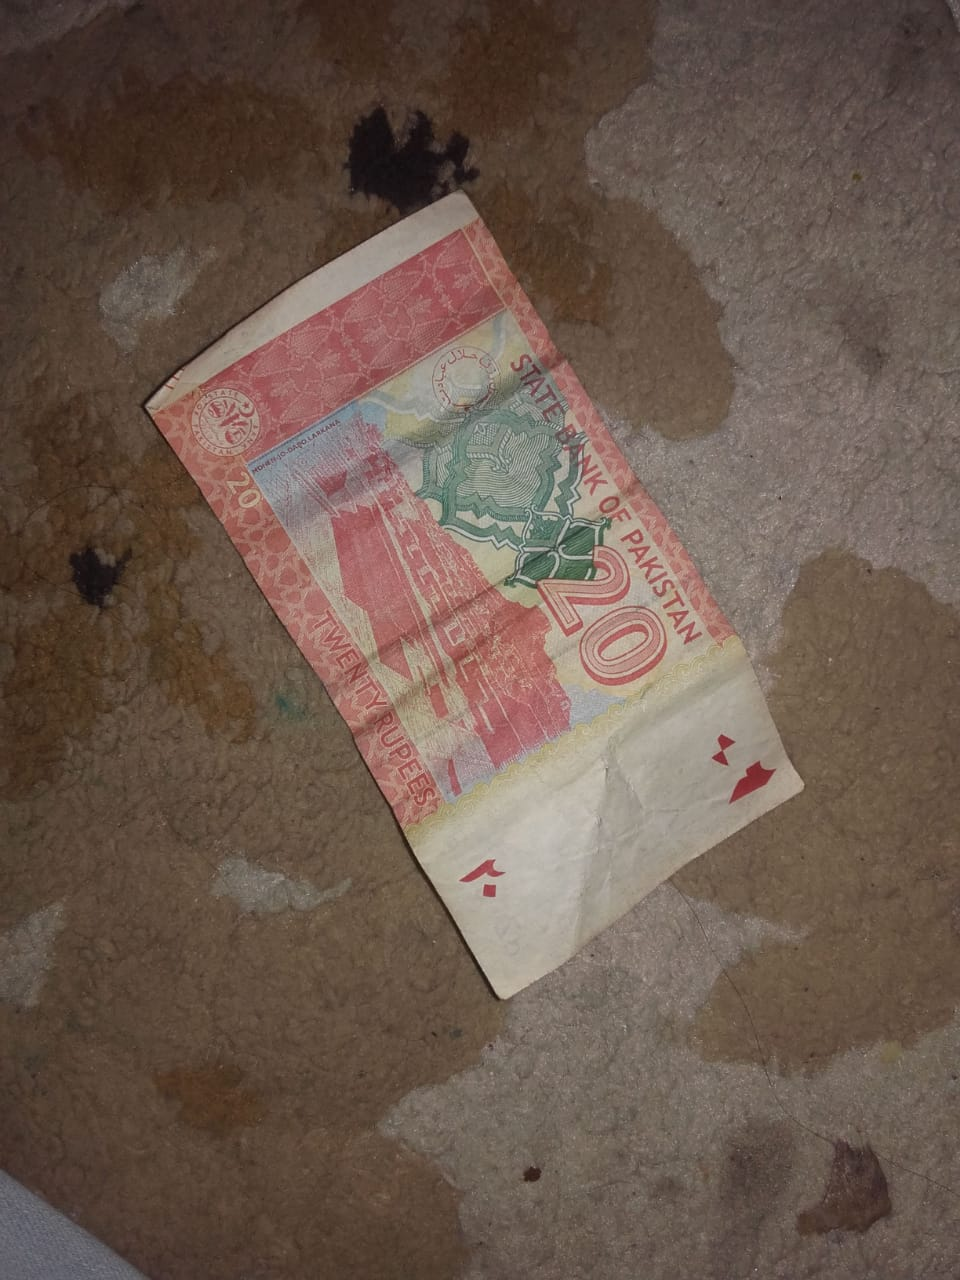20 rupee: (159, 196, 845, 1046)
